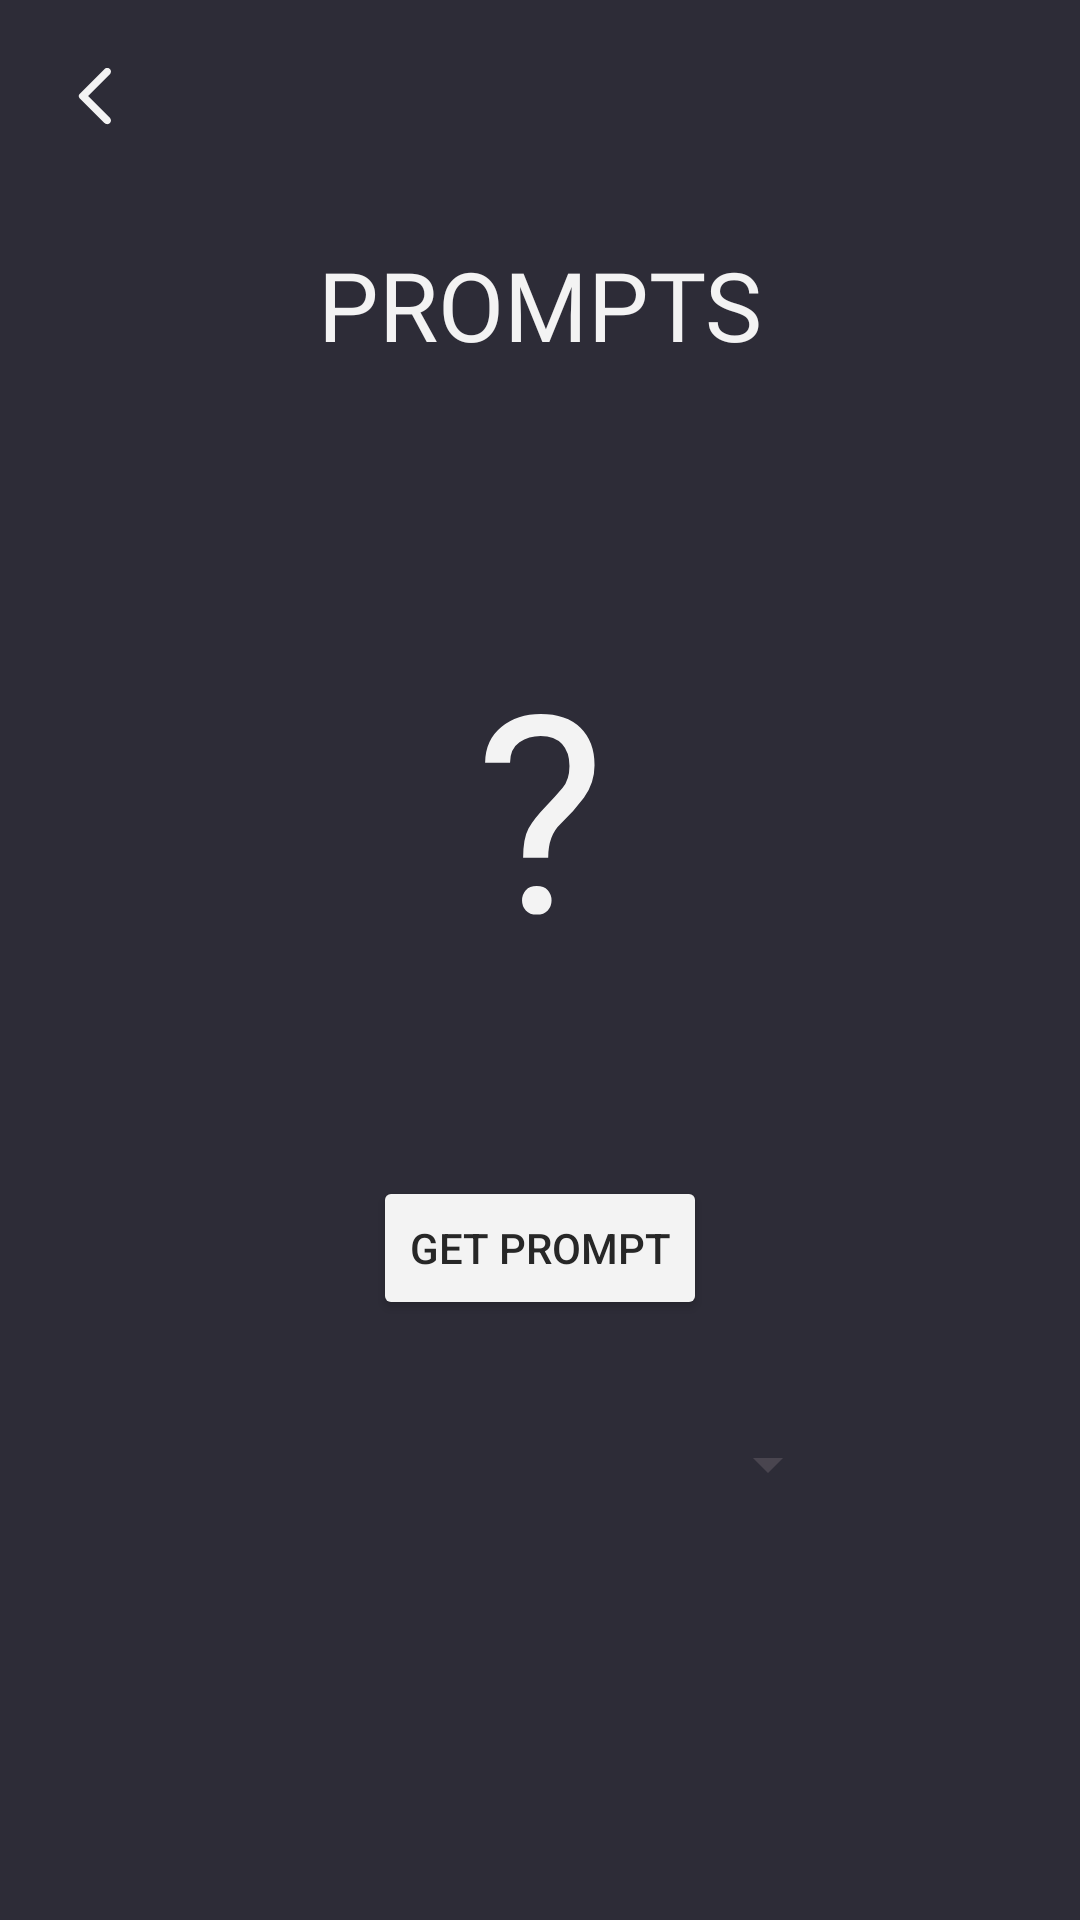

Screen size 1080 × 1920. Icon name, then its center in pixels as (x=x, y=y):
return: (x=94, y=96)
